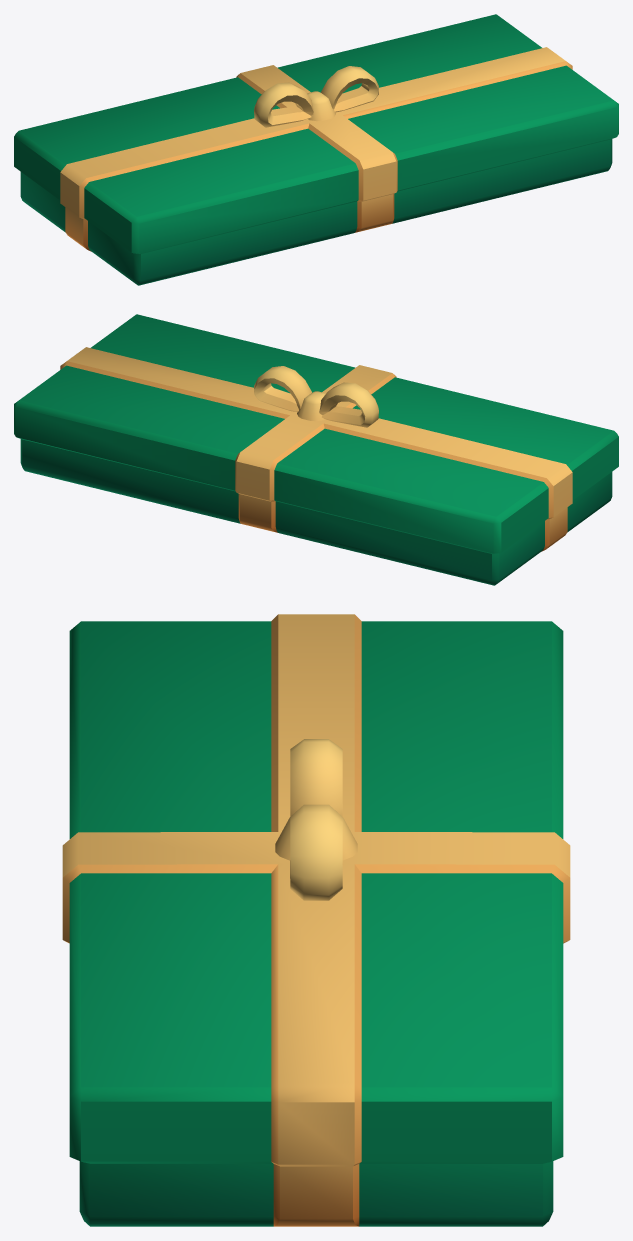
File: present_F_green.obj
3 renders of one model, top to bottom at view 1: azimuth 30°, elevation 25°; view 2: azimuth 150°, elevation 25°; view 3: azimuth 270°, elevation 25°, orthographic. The views are drawn at different scales.
Visible parts, largest first — view 1: present_F_green; view 2: present_F_green; view 3: present_F_green.
Part boxes in pixels (x1,y1,x2,y2): present_F_green: (14,14,618,285); present_F_green: (14,314,618,585); present_F_green: (62,614,570,1226).
Size of the model in its own units: 2.16 by 0.4617 by 0.9638.
Materials: 1 (1 with a texture image).
